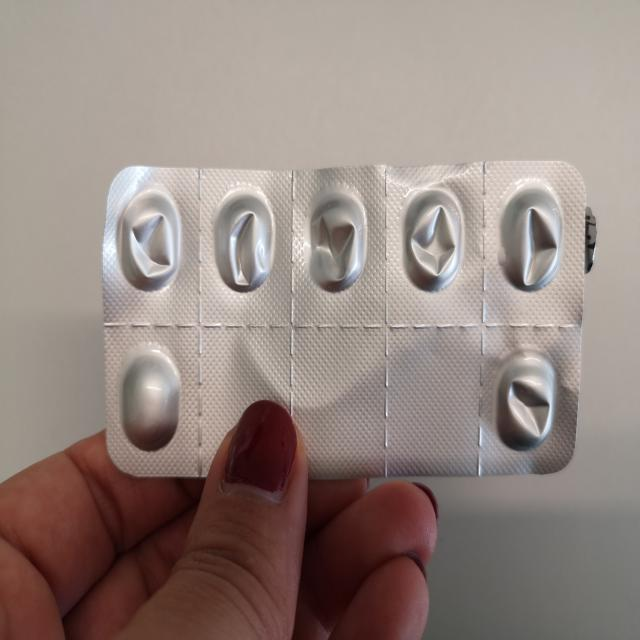Empty: (494, 177, 564, 297), (398, 185, 471, 299), (116, 188, 186, 298), (304, 186, 372, 299), (209, 183, 276, 297), (491, 349, 561, 456)
Pill: (114, 343, 184, 455)
